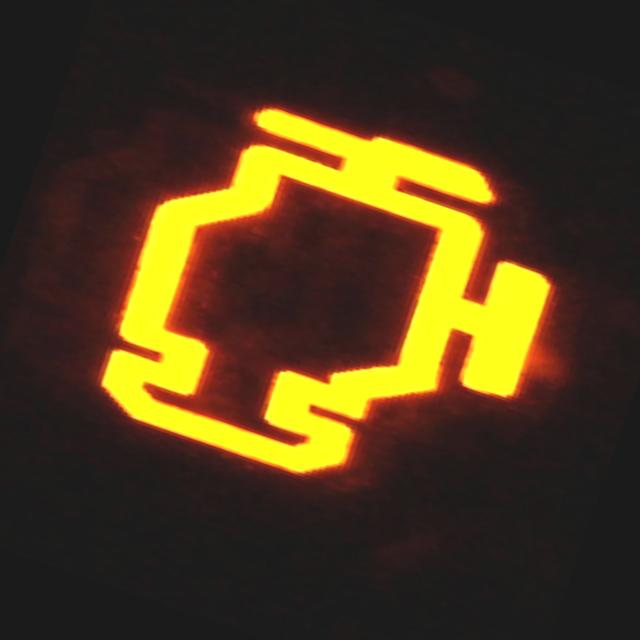kontrolka: (16, 32, 626, 590)
